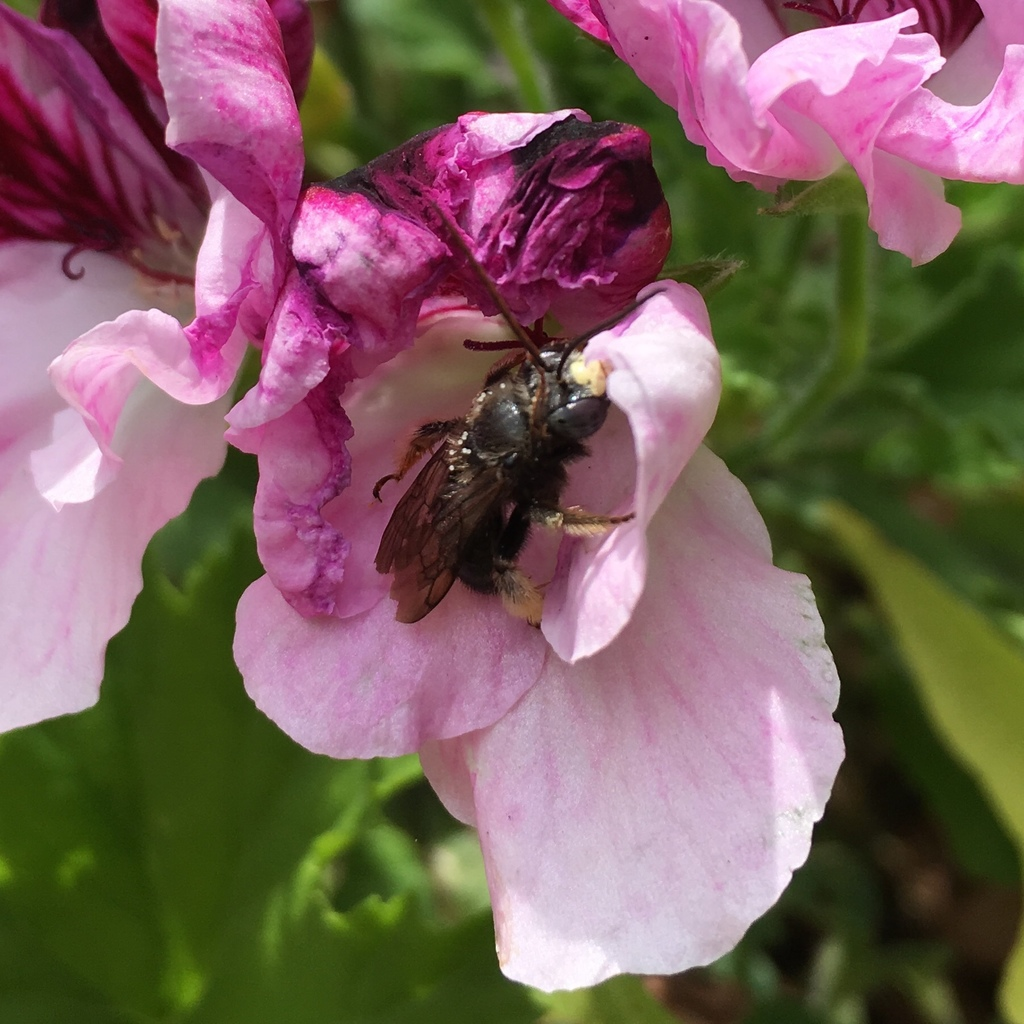not_bumblebee: (373, 252, 668, 634)
